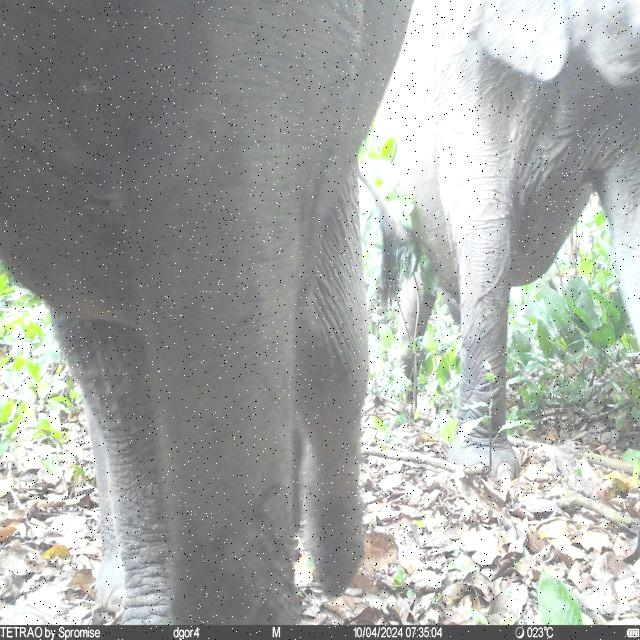elephant: (0, 1, 417, 624), (372, 1, 638, 480)
